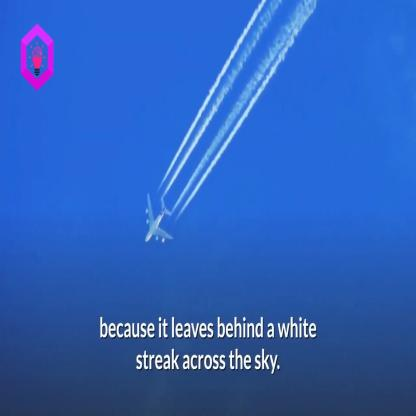plane: (139, 188, 180, 249)
